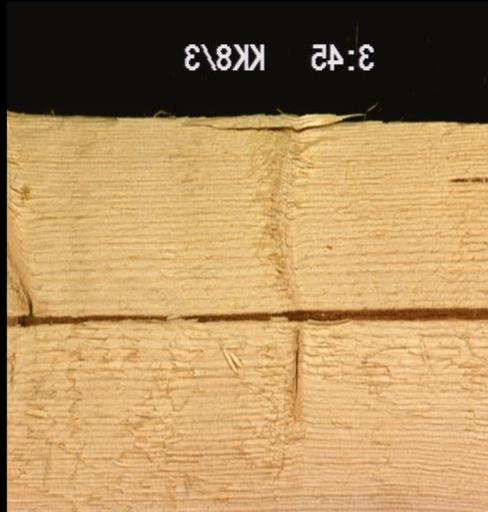split: (177, 111, 362, 134)
